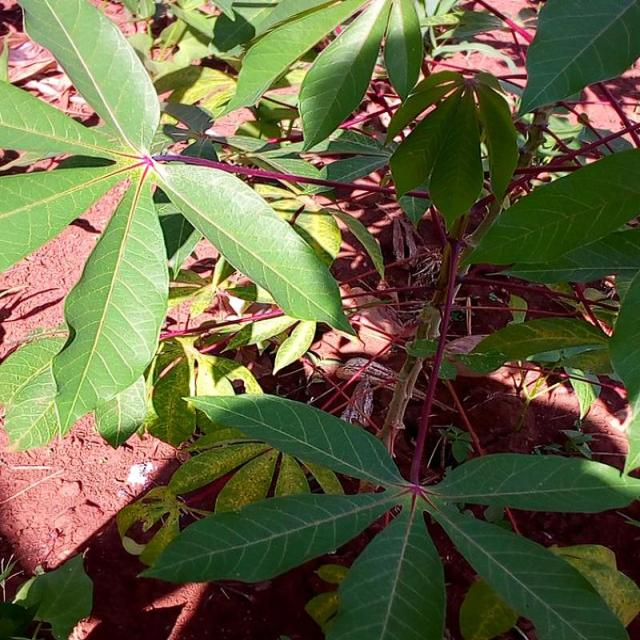cassava leaf: (0, 0, 356, 449), (152, 157, 358, 341), (49, 166, 170, 438), (181, 390, 409, 490)
